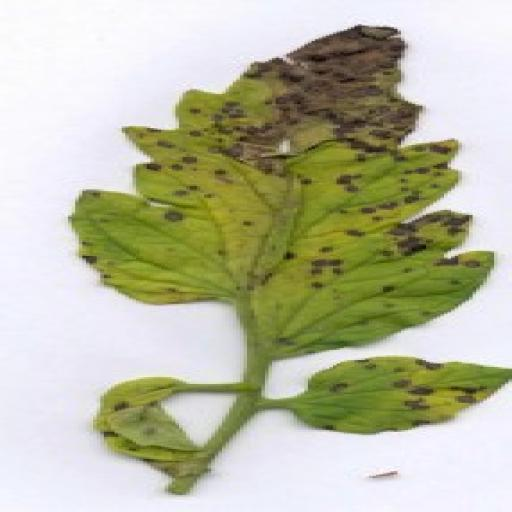disease_tomato: (62, 22, 498, 358), (286, 354, 512, 438), (88, 372, 218, 484)
